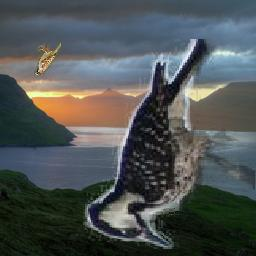Sparrow: (35, 43, 62, 76)
Woodpecker: (83, 39, 255, 249)
